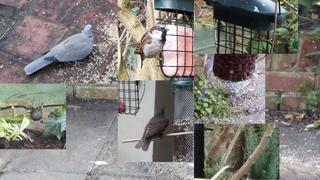collared dove: (24, 24, 94, 75)
sparrow: (134, 24, 170, 69), (26, 108, 42, 123)
starling: (135, 104, 169, 152)
